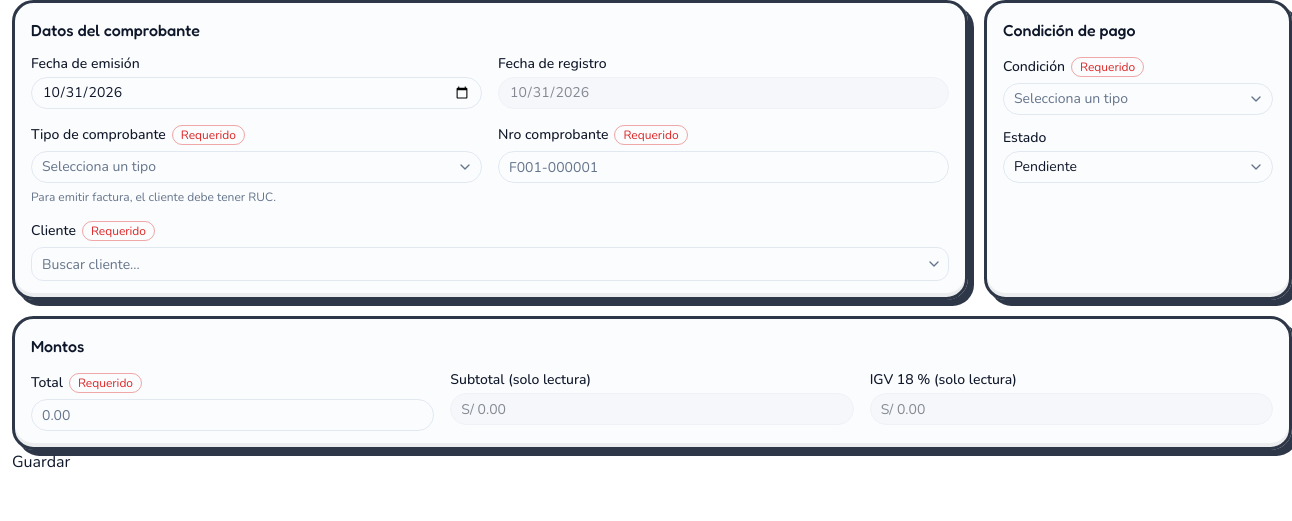
VoucherForm — SPEC 44: requeridos y dirección › mantiene el ítem 'Selecciona un tipo' en la lista aunque haya selección
Click the dropdown with placeholder "Buscar cliente...". click: coordinates (476, 264)
box: left=32, top=248, right=920, bottom=280
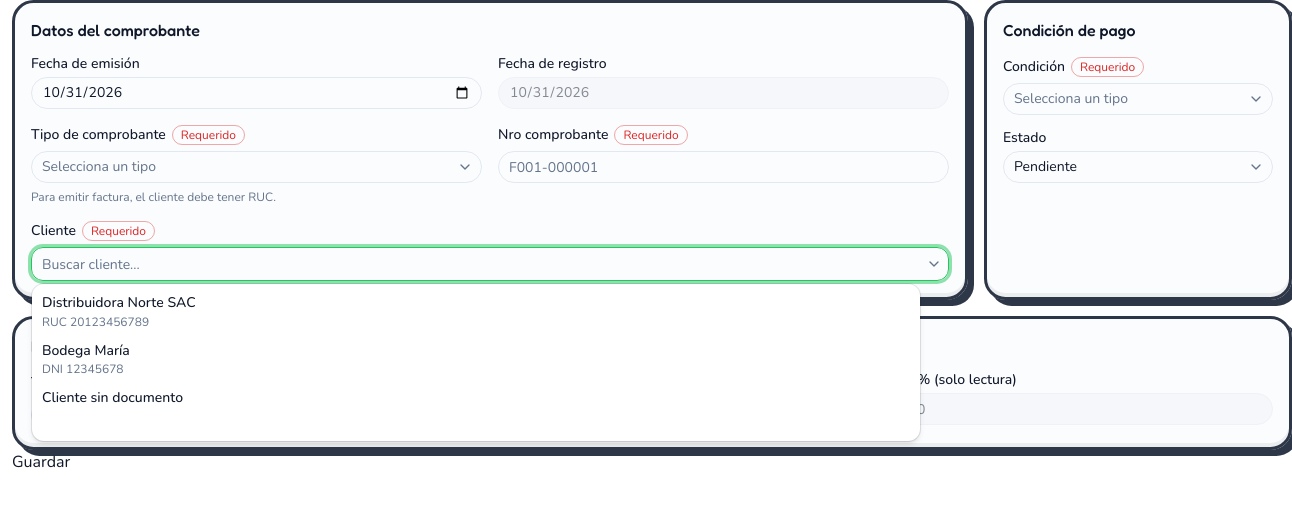
Click the text "Distribuidora Norte SAC". click: coordinates (119, 302)
box: left=42, top=293, right=196, bottom=312
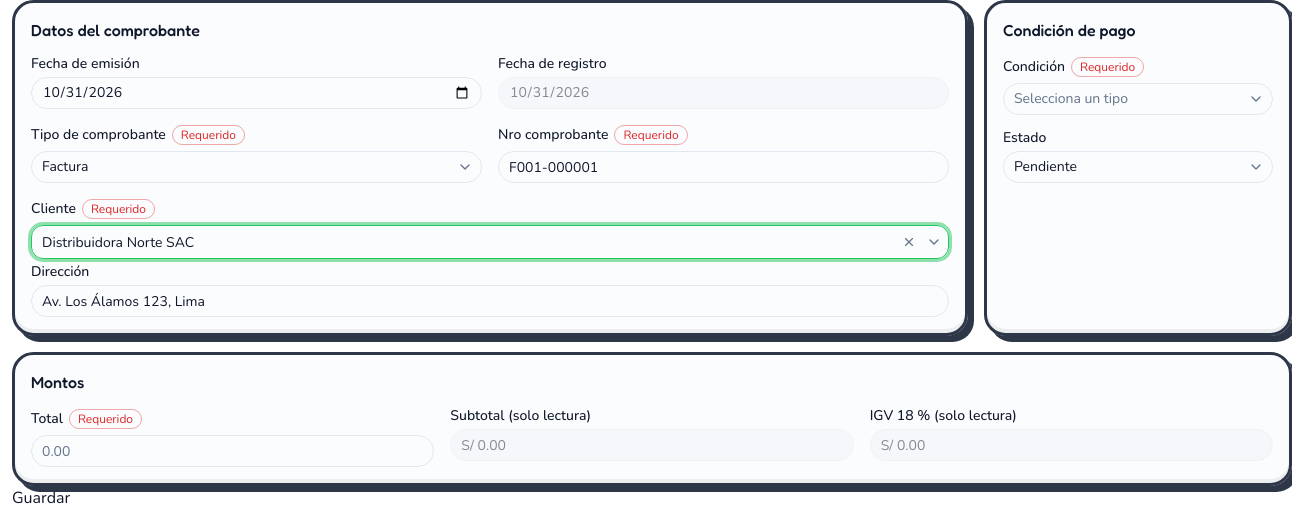
Result: the text "Factura" is shown at left=42, top=157, right=88, bottom=176
Click the dropdown named "Tipo de comprobante". click: coordinates (65, 166)
box: left=31, top=151, right=482, bottom=183
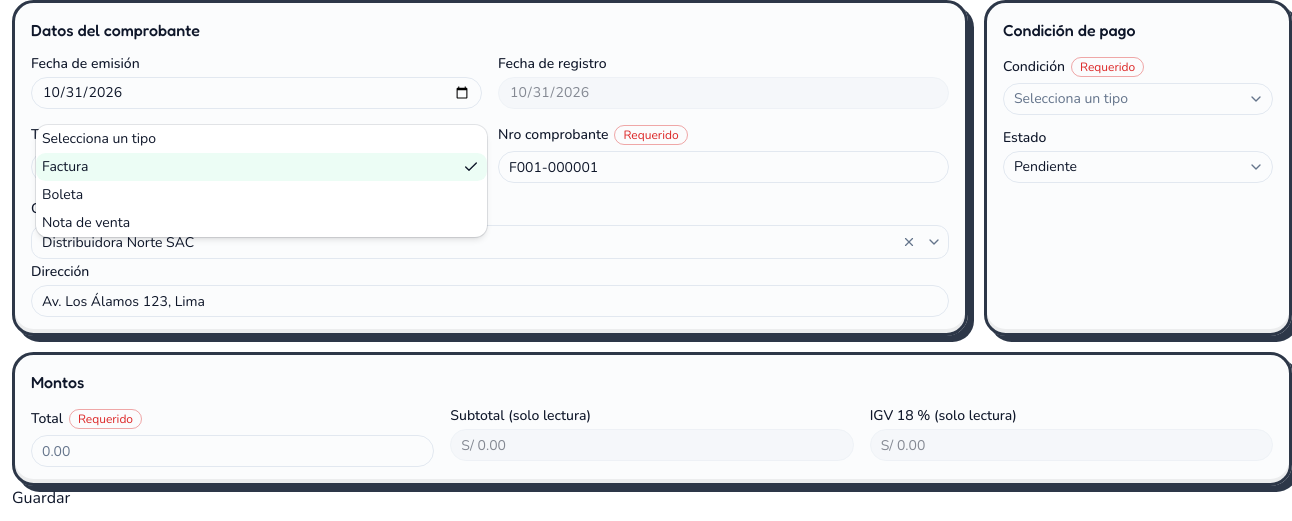
Result: the option "Selecciona un tipo" is shown at left=42, top=129, right=156, bottom=148
